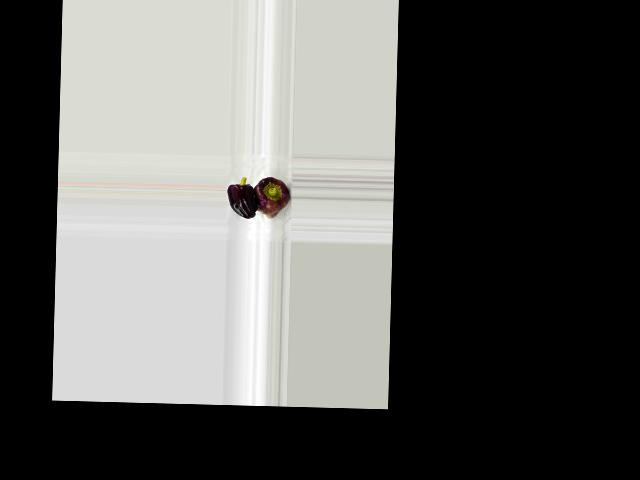bell_pepper: (252, 168, 291, 226)
